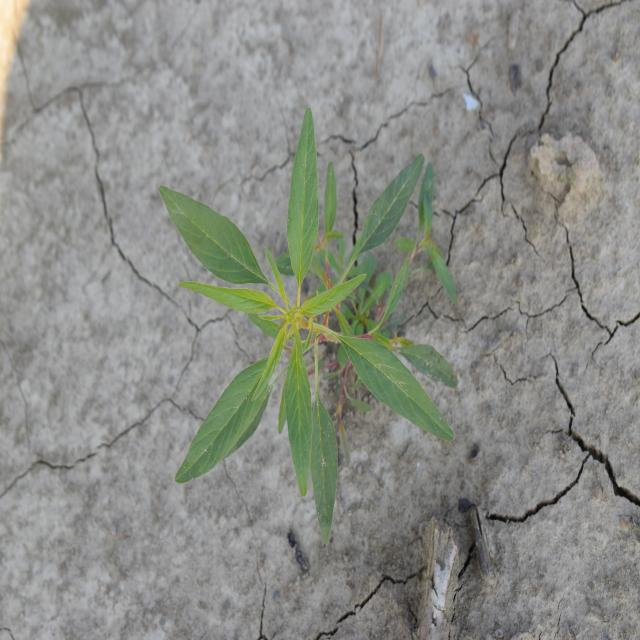Waterhemp: (156, 104, 461, 550)
